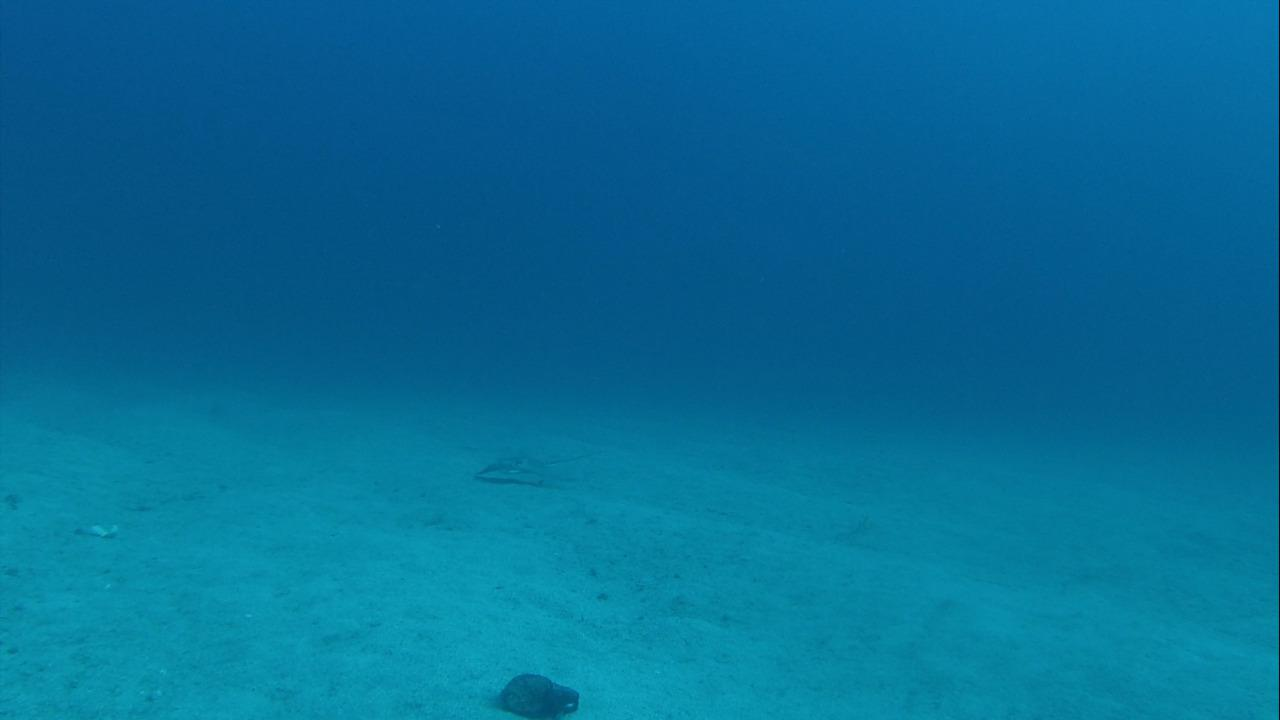myliobatis: (469, 439, 589, 485)
